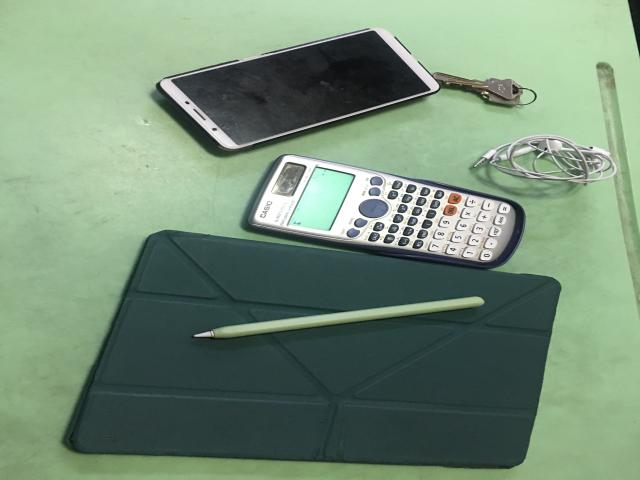Keys: (433, 72, 537, 105)
Mobile phone: (157, 28, 440, 150)
wire: (473, 135, 617, 184)
